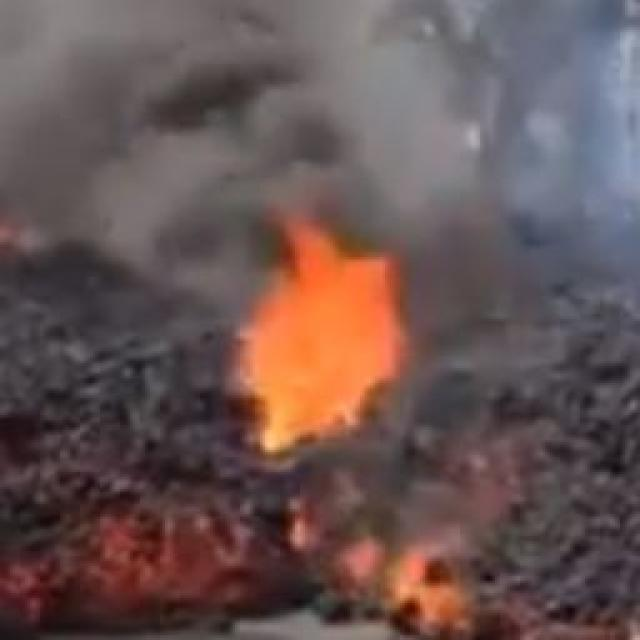Fire: (221, 222, 437, 466)
Smoke: (0, 0, 578, 381)
